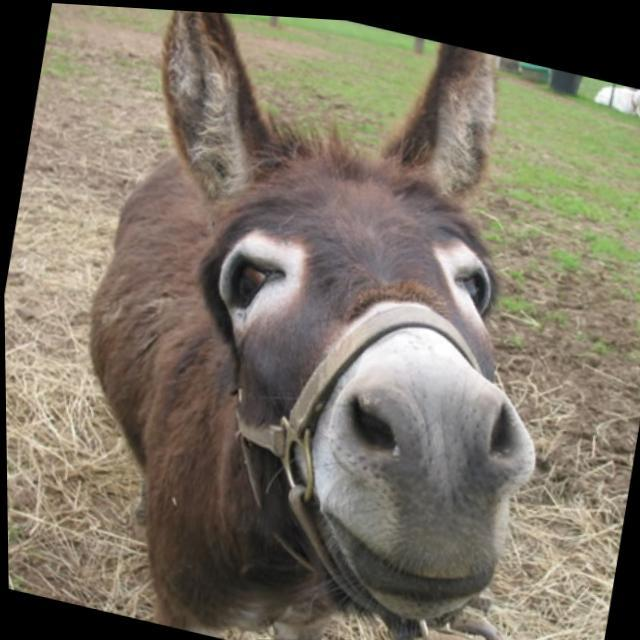Donkey: (38, 2, 605, 640)
